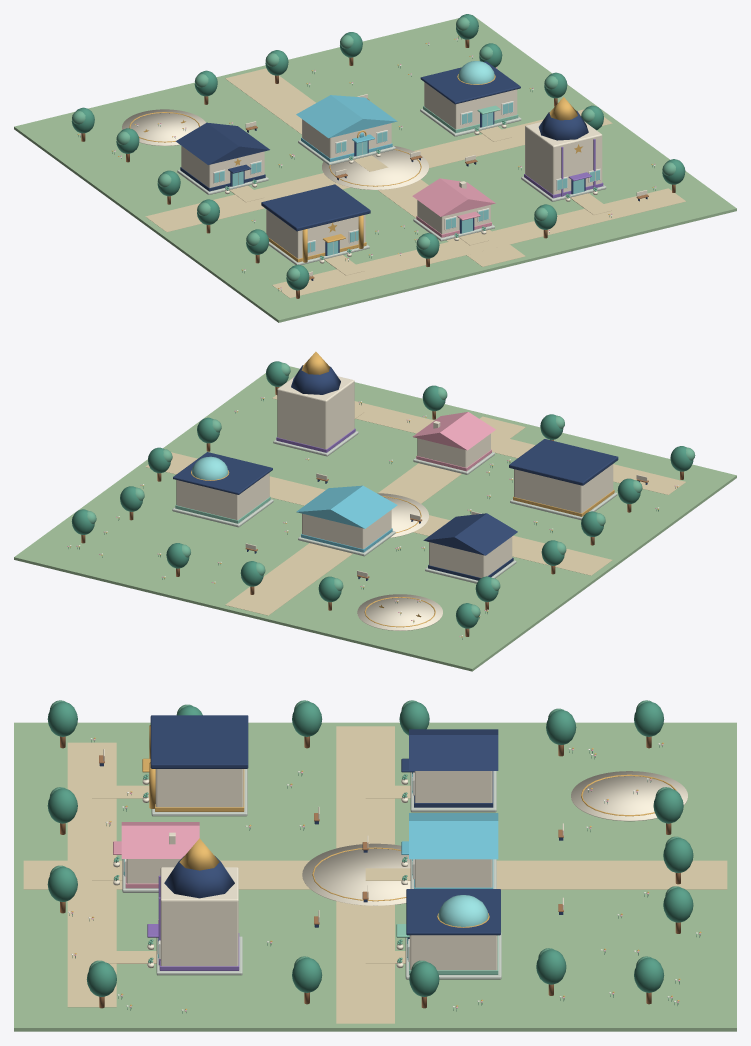
Rendered from town.glb.
3 renders of one model, top to bottom at view 1: azimuth 30°, elevation 25°; view 2: azimuth 150°, elevation 25°; view 3: azimuth 270°, elevation 25°, orthographic. The views are drawn at different scales.
Visible parts, largest first — view 1: Dawnlight Town · original Blender architecture; view 2: Dawnlight Town · original Blender architecture; view 3: Dawnlight Town · original Blender architecture.
Boxes of the visible parts, x1,y1,x2,y2 form: Dawnlight Town · original Blender architecture: (14,14,736,322); Dawnlight Town · original Blender architecture: (14,351,736,671); Dawnlight Town · original Blender architecture: (14,700,736,1031).
Bounding box in the file's own units: 74 × 13.92 × 74.
